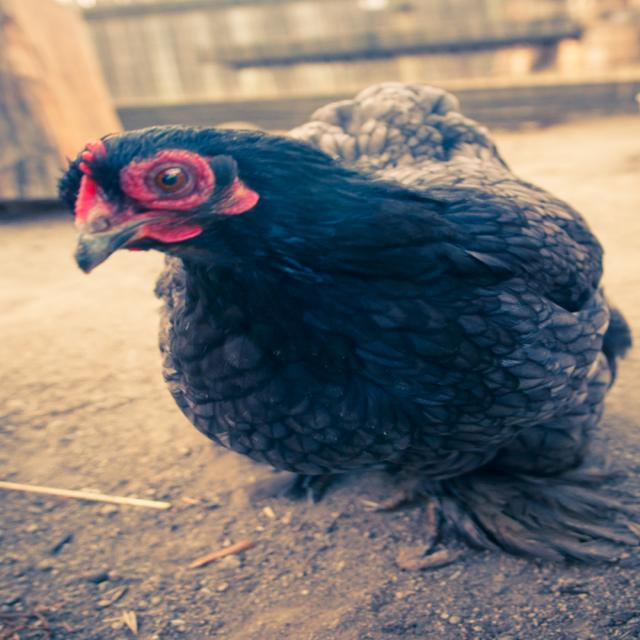Chicken: (66, 79, 634, 570)
